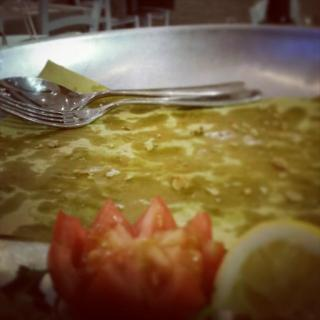tomato: (39, 163, 253, 318)
